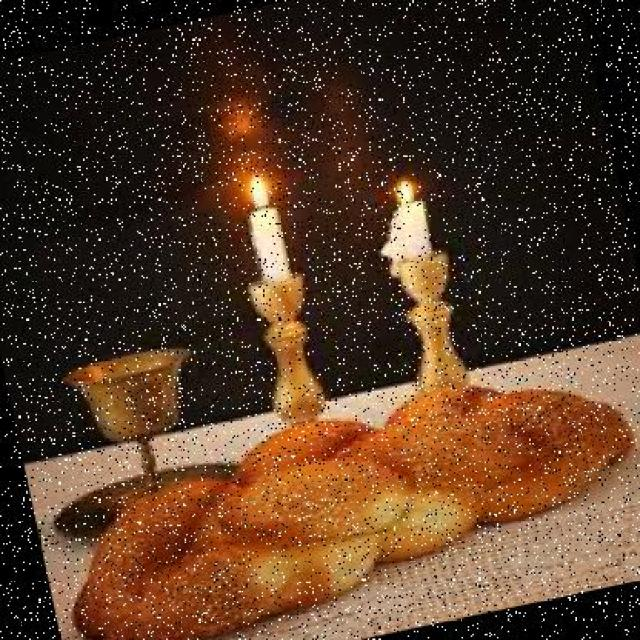fire: (225, 169, 288, 222), (375, 170, 431, 216)
